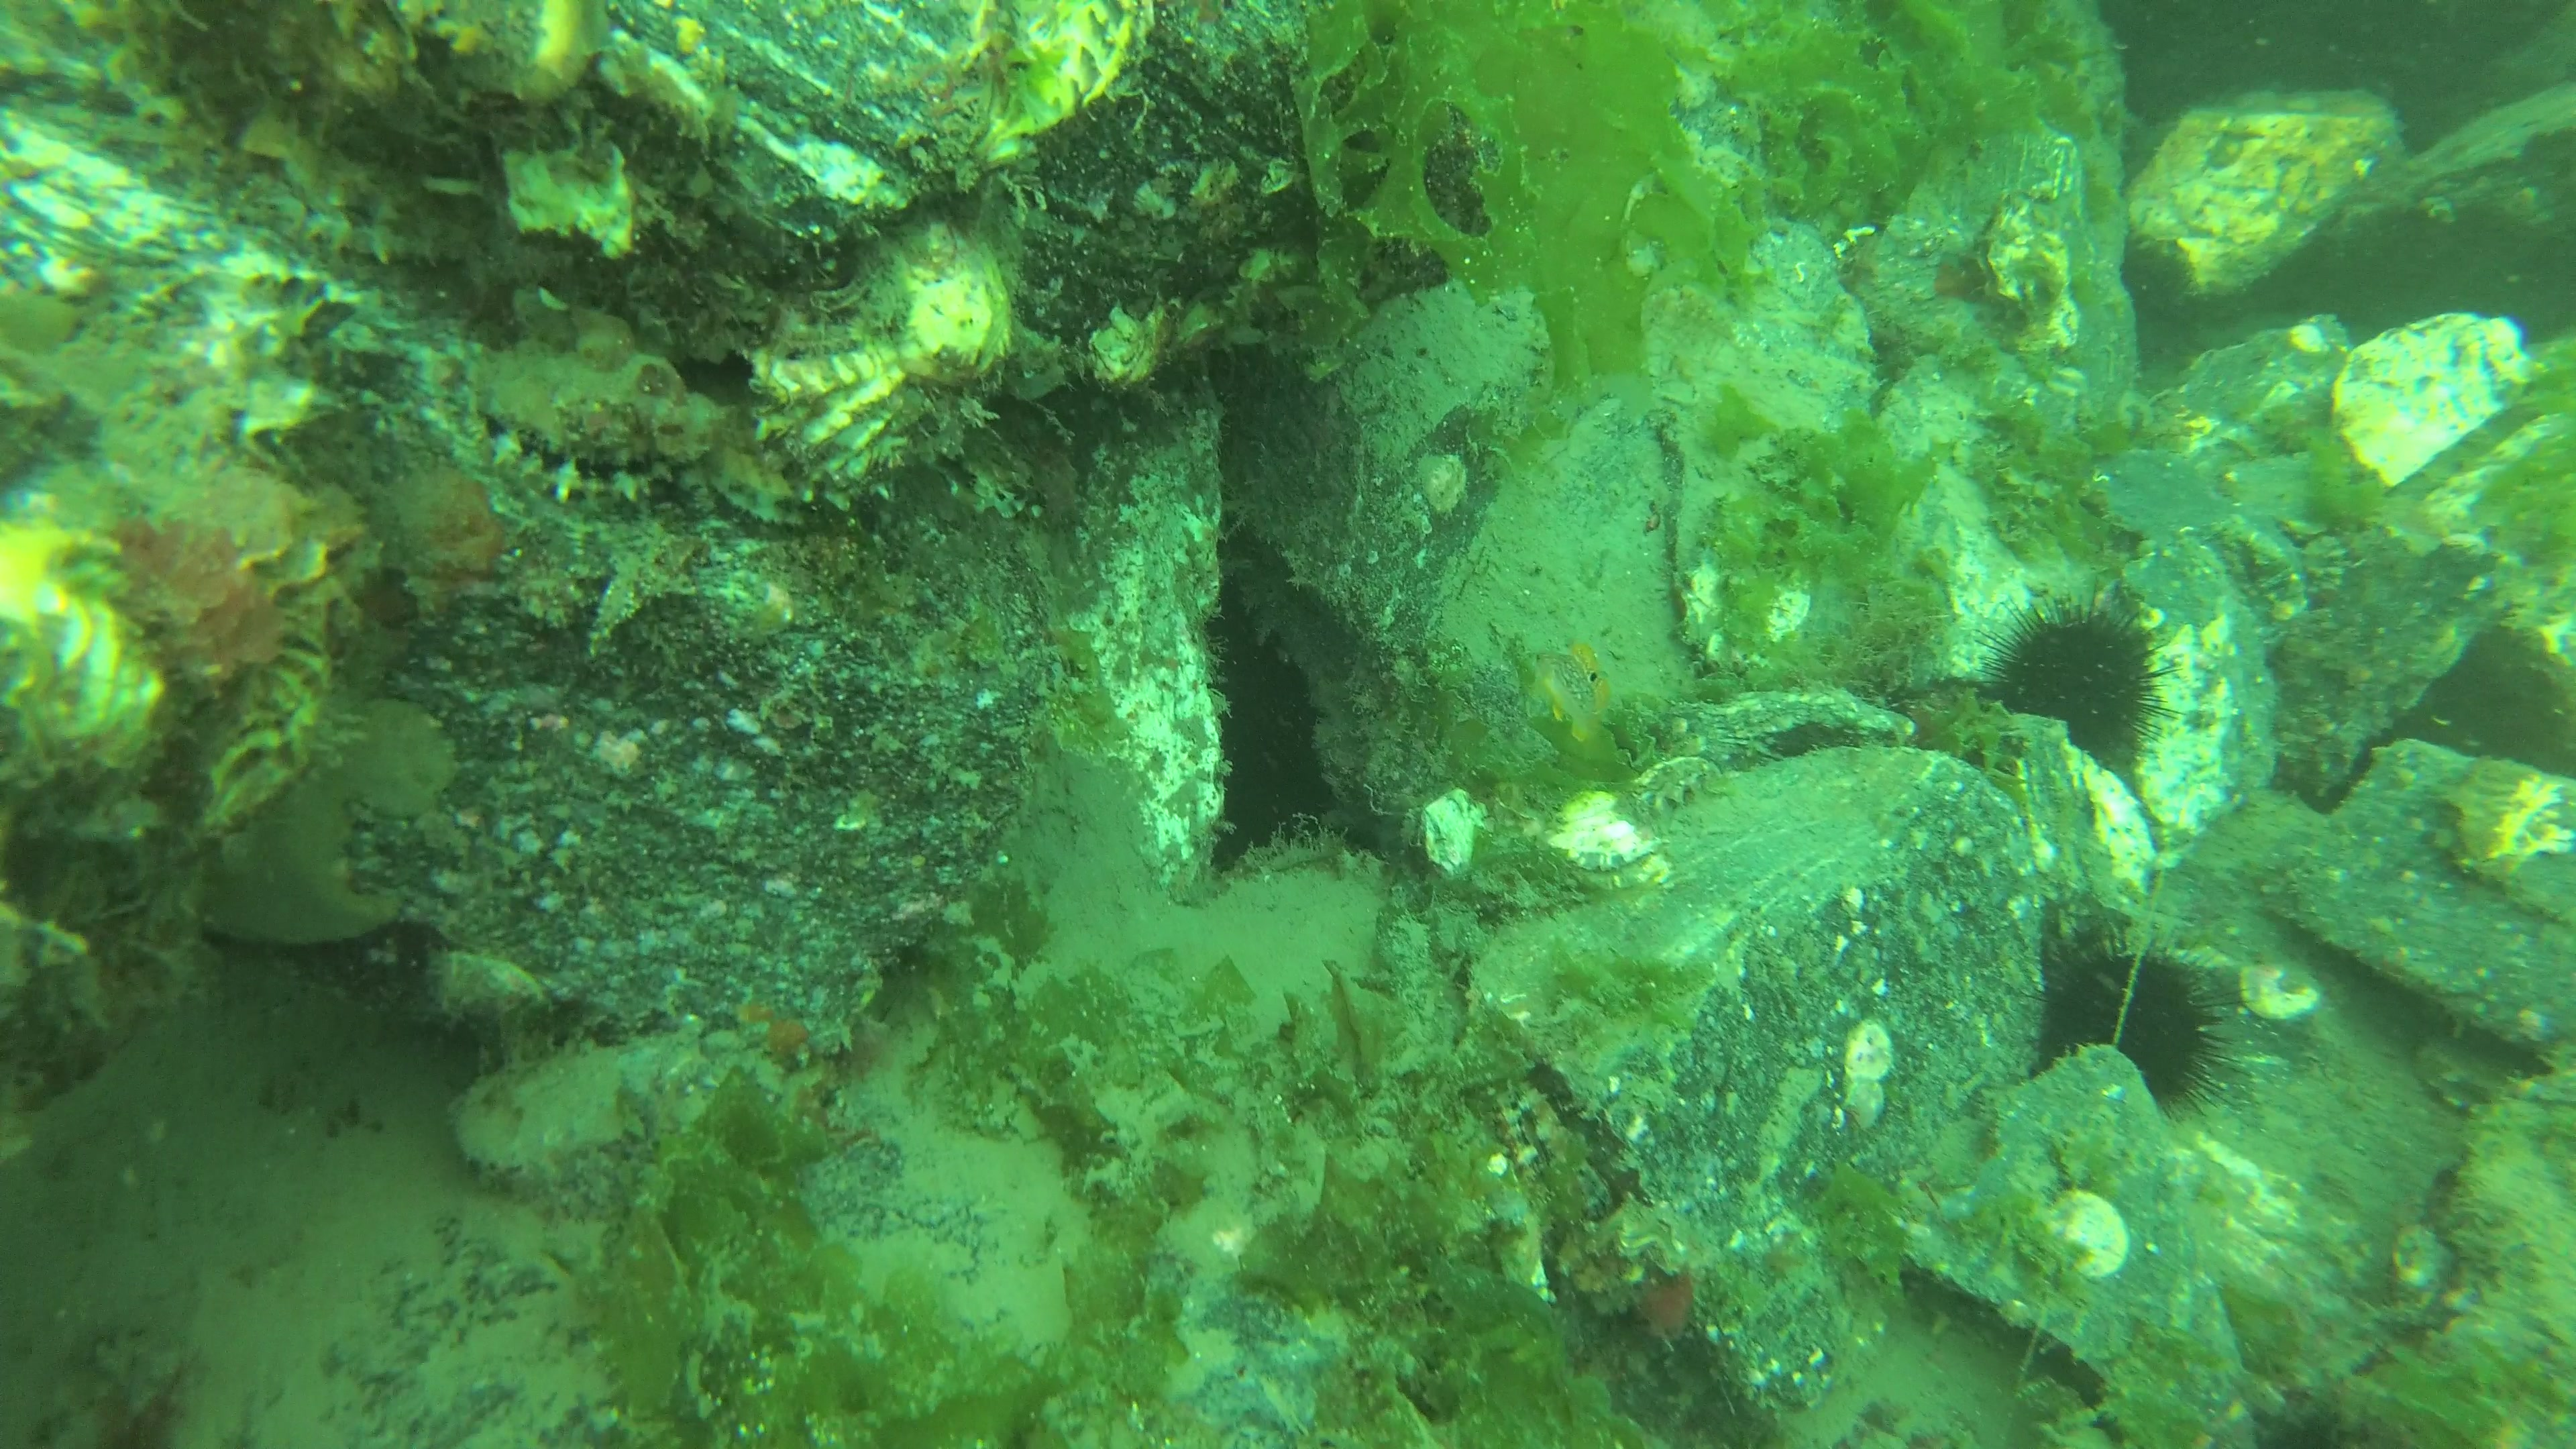echinus: (2031, 920, 2247, 1120), (1983, 587, 2181, 791)
